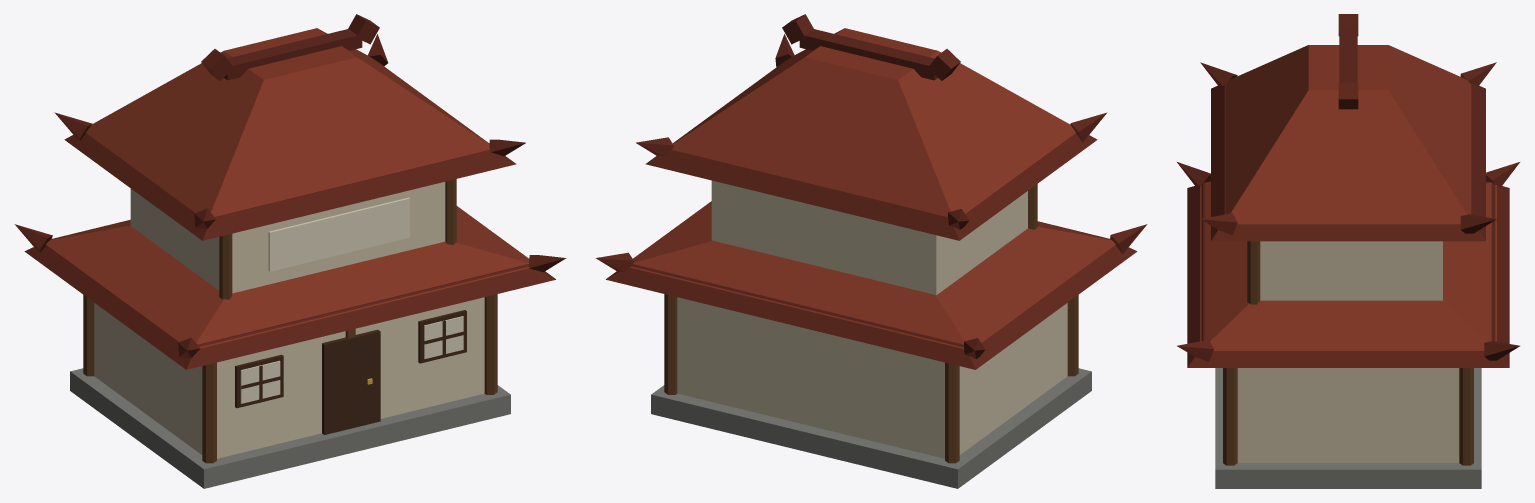
Rendered from SM_GZ_house_ember_1.fbx.
3 views of the same model, side by side, from view 1: azimuth 30°, elevation 25°; view 2: azimuth 150°, elevation 25°; view 3: azimuth 270°, elevation 25° (orthographic).
Visible parts, largest first — view 1: SM_GZ_house_ember_1; view 2: SM_GZ_house_ember_1; view 3: SM_GZ_house_ember_1.
Part boxes in pixels (left/top/right/bottom): SM_GZ_house_ember_1: left=14, top=14, right=566, bottom=488; SM_GZ_house_ember_1: left=595, top=14, right=1147, bottom=488; SM_GZ_house_ember_1: left=1177, top=14, right=1519, bottom=488.
Bounding box in the file's own units: 1014 × 939 × 800.
